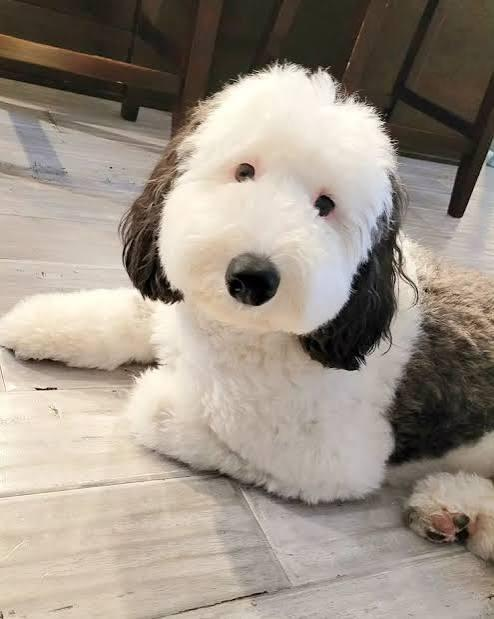adult_dog: (0, 60, 494, 565)
